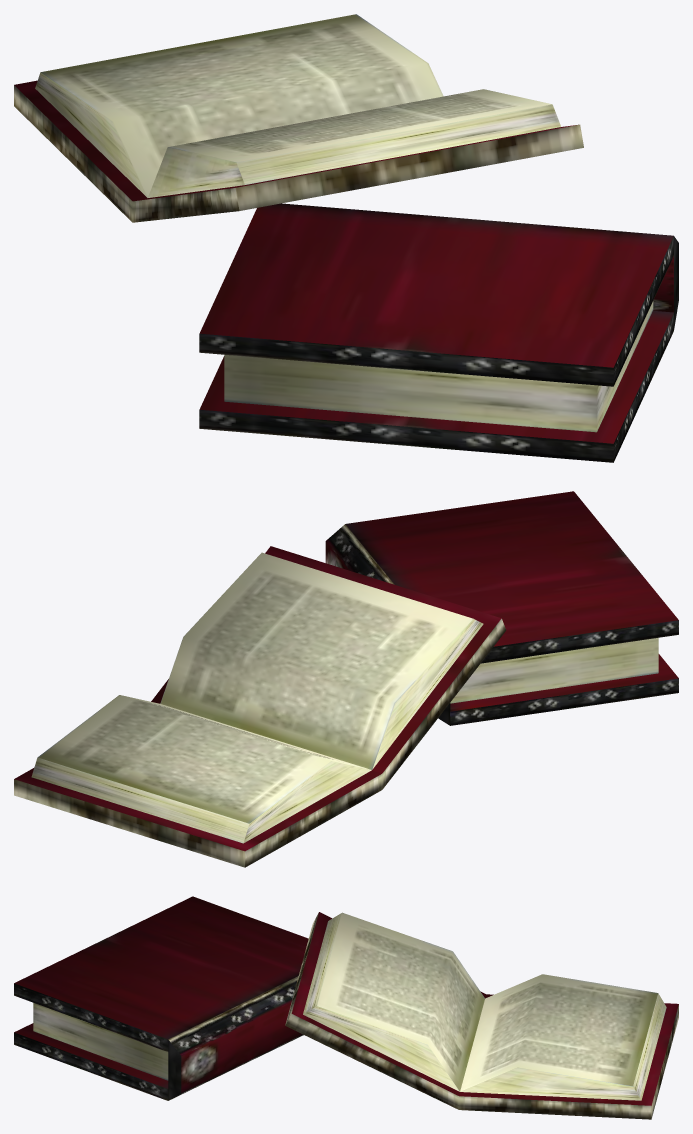
The model's file is DT_BOOKS_01.glb.
3 renders of one model, top to bottom at view 1: azimuth 30°, elevation 25°; view 2: azimuth 150°, elevation 25°; view 3: azimuth 270°, elevation 25°, orthographic. The views are drawn at different scales.
Parts seen in each view (by area): view 1: Mesh; view 2: Mesh; view 3: Mesh.
Part boxes in pixels (x1,y1,x2,y2): Mesh: (14, 14, 678, 462); Mesh: (14, 491, 678, 867); Mesh: (14, 896, 678, 1119).
Size of the model in its own units: 0.4504 by 0.1209 by 0.7808.
Materials: 2 (2 with a texture image).
